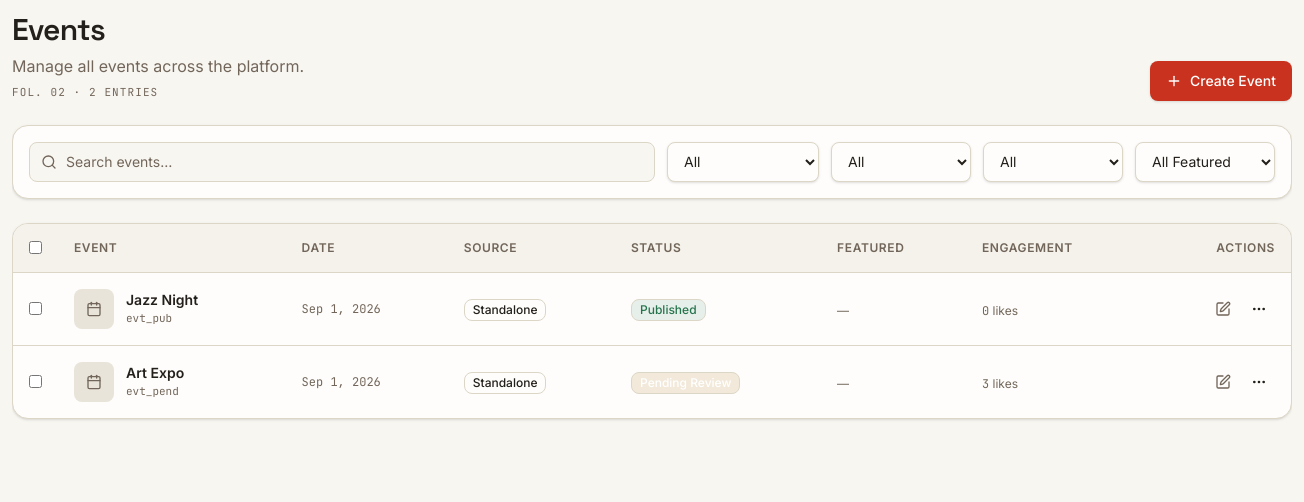
it: EventsClient › deselects before running a bulk action
Click the checkbox named "Select row" next to "Art Expo" at (36, 381), box [29, 374, 42, 388]
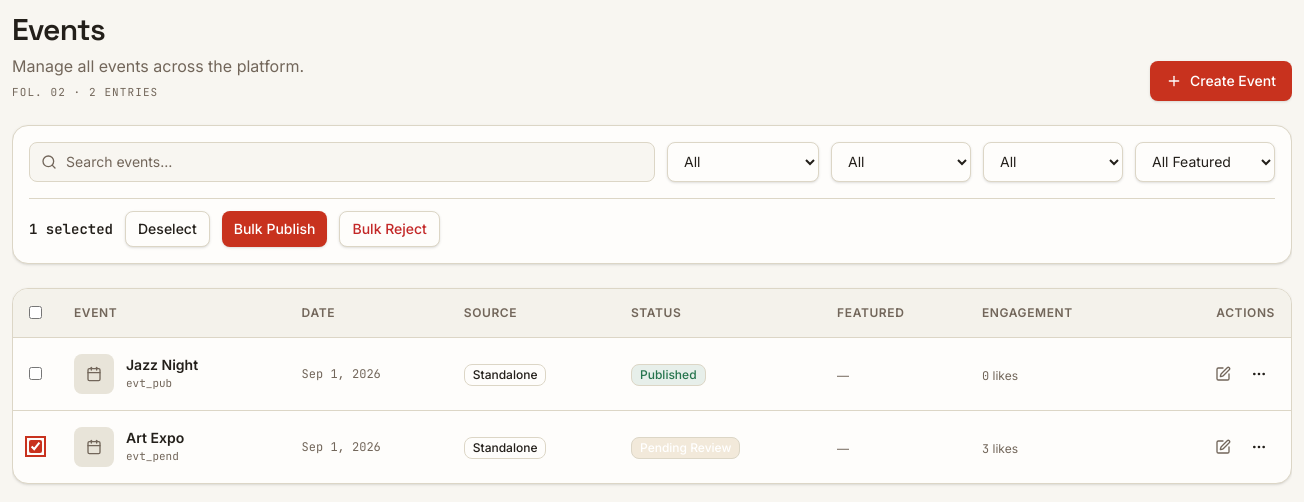
Click the button "Deselect" at (167, 228), box [125, 210, 210, 246]
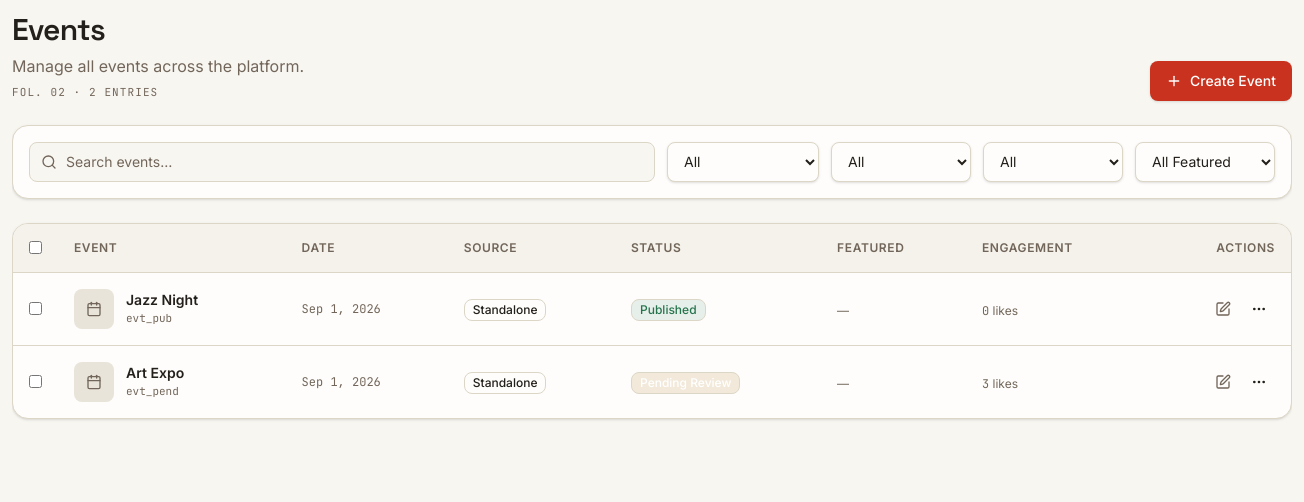
Check: the text "1 selected" is gone
Check: the button "Bulk Publish" is gone
